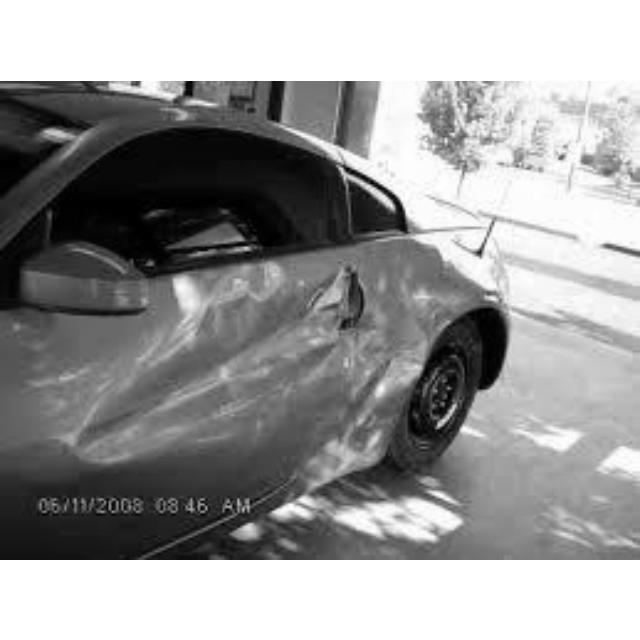doorouter-dent: (64, 241, 348, 542), (354, 241, 455, 426)
